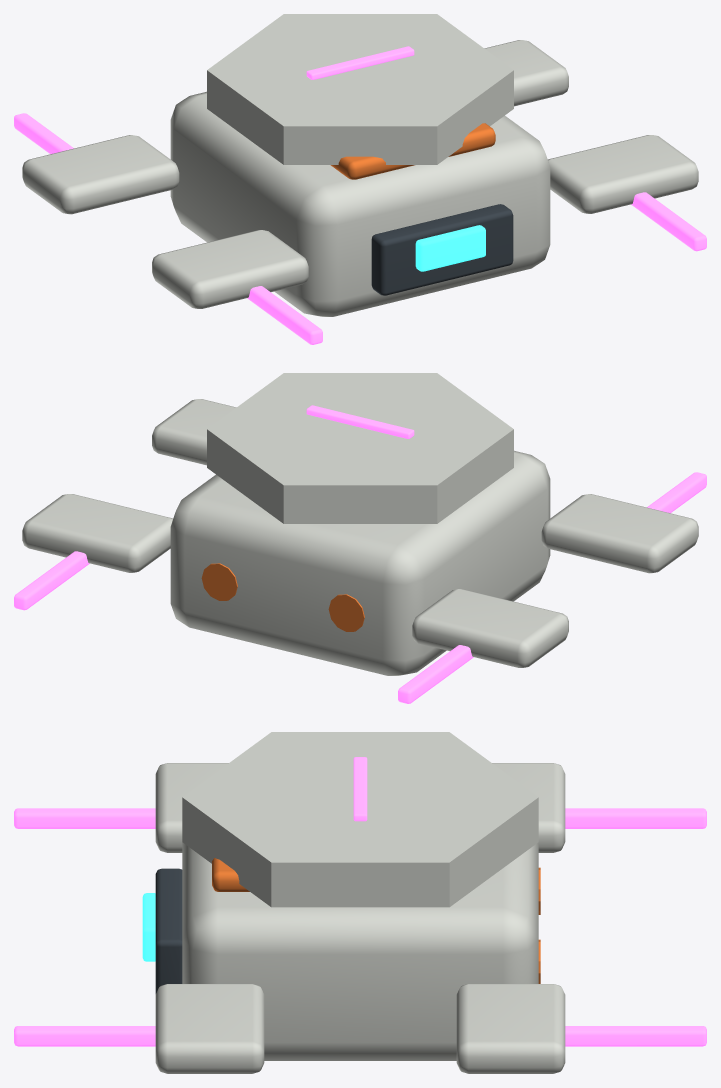
File: VXDR_JAMMER_v001_DRONE.fbx
The picture shows the model from 3 angles, top to bottom: view 1: azimuth 30°, elevation 25°; view 2: azimuth 150°, elevation 25°; view 3: azimuth 270°, elevation 25°; orthographic projection. The views are drawn at different scales.
Visible parts, largest first — view 1: Armored sensor shell, Hexagonal resonator, Foldable stabilizer.001, Foldable stabilizer, Foldable stabilizer.002, Sensor recess, Foldable stabilizer.003, Optical sensor, Top identification, Jamming aerial, Jamming aerial.002, Resonator light (+1 smaller); view 2: Armored sensor shell, Hexagonal resonator, Foldable stabilizer, Foldable stabilizer.001, Foldable stabilizer.003, Foldable stabilizer.002, Jamming aerial.001, Jamming aerial.003, Resonator light, Jamming aerial, Dock contact, Dock contact.001; view 3: Hexagonal resonator, Armored sensor shell, Foldable stabilizer.002, Foldable stabilizer.003, Sensor recess, Foldable stabilizer, Foldable stabilizer.001, Jamming aerial, Jamming aerial.001, Jamming aerial.002, Jamming aerial.003, Resonator light (+2 smaller).
Part boxes in pixels (<box>): Armored sensor shell: <box>170,91,550,316</box>; Hexagonal resonator: <box>207,14,513,164</box>; Foldable stabilizer.001: <box>22,135,179,214</box>; Foldable stabilizer: <box>152,230,308,308</box>; Foldable stabilizer.002: <box>548,135,698,213</box>; Sensor recess: <box>371,204,513,295</box>; Foldable stabilizer.003: <box>484,40,568,106</box>; Optical sensor: <box>415,225,485,271</box>; Top identification: <box>330,123,495,179</box>; Jamming aerial: <box>247,286,322,344</box>; Jamming aerial.002: <box>631,192,706,251</box>; Resonator light: <box>306,46,414,79</box>; Armored sensor shell: <box>170,450,550,675</box>; Hexagonal resonator: <box>207,373,513,523</box>; Foldable stabilizer: <box>541,494,698,573</box>; Foldable stabilizer.001: <box>412,589,568,667</box>; Foldable stabilizer.003: <box>22,494,172,572</box>; Foldable stabilizer.002: <box>152,399,236,465</box>; Jamming aerial.001: <box>398,645,473,703</box>; Jamming aerial.003: <box>14,551,89,610</box>; Resonator light: <box>306,405,414,438</box>; Jamming aerial: <box>647,472,706,513</box>; Dock contact: <box>328,594,364,631</box>; Dock contact.001: <box>201,563,237,600</box>; Hexagonal resonator: <box>182,732,538,907</box>; Armored sensor shell: <box>182,842,538,1060</box>; Foldable stabilizer.002: <box>155,984,264,1073</box>; Foldable stabilizer.003: <box>456,984,565,1073</box>; Sensor recess: <box>155,868,182,993</box>; Foldable stabilizer: <box>155,763,228,852</box>; Foldable stabilizer.001: <box>492,763,565,852</box>; Jamming aerial: <box>14,808,155,828</box>; Jamming aerial.001: <box>565,808,706,828</box>; Jamming aerial.002: <box>14,1026,155,1046</box>; Jamming aerial.003: <box>565,1026,706,1046</box>; Resonator light: <box>353,757,367,821</box>.
Bounding box in the file's own units: 34.4 × 12.15 × 35.
